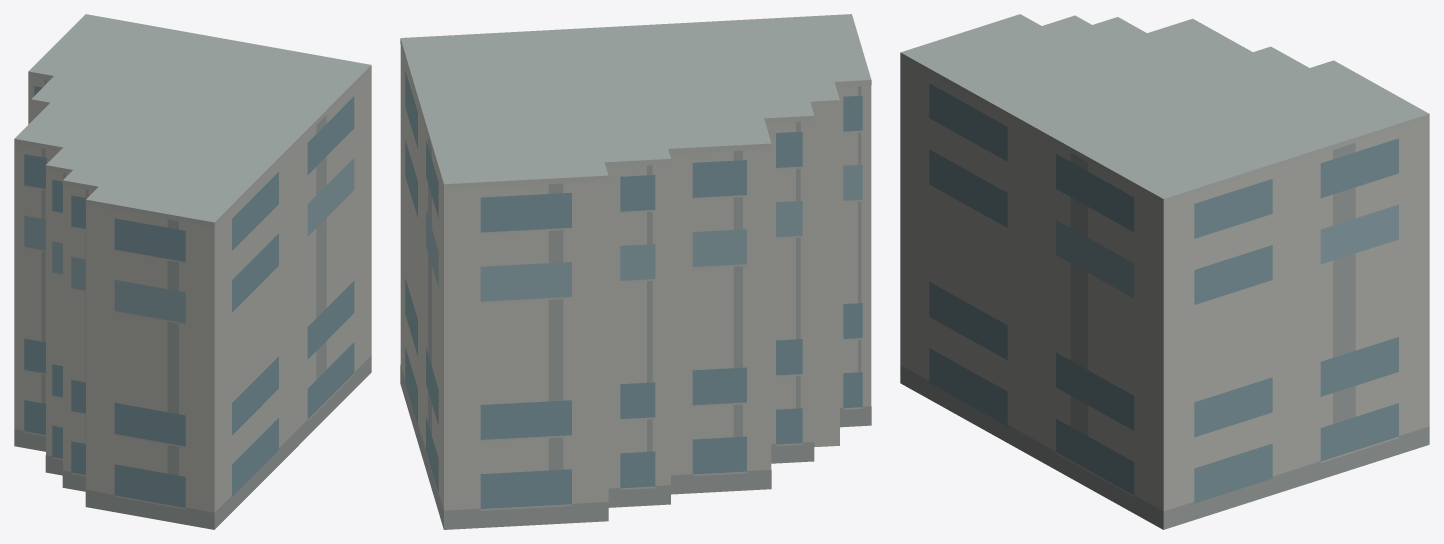
The model's file is residential-c9da12d2-5a78-424d-aca7-af11a0c22219.glb.
3 views of the same model, side by side, from view 1: azimuth 30°, elevation 25°; view 2: azimuth 150°, elevation 25°; view 3: azimuth 270°, elevation 25° (orthographic). The views are drawn at different scales.
Parts seen in each view (by area): view 1: residential-c9da12d2-5a78-424d-aca7-af11a0c22219.tmp; view 2: residential-c9da12d2-5a78-424d-aca7-af11a0c22219.tmp; view 3: residential-c9da12d2-5a78-424d-aca7-af11a0c22219.tmp.
Part boxes in pixels (x1=…): residential-c9da12d2-5a78-424d-aca7-af11a0c22219.tmp: x1=14, y1=14, x2=371, y2=529; residential-c9da12d2-5a78-424d-aca7-af11a0c22219.tmp: x1=400, y1=14, x2=871, y2=529; residential-c9da12d2-5a78-424d-aca7-af11a0c22219.tmp: x1=900, y1=14, x2=1429, y2=529.
Bounding box in the file's own units: 18.48 × 15.4 × 22.33.
